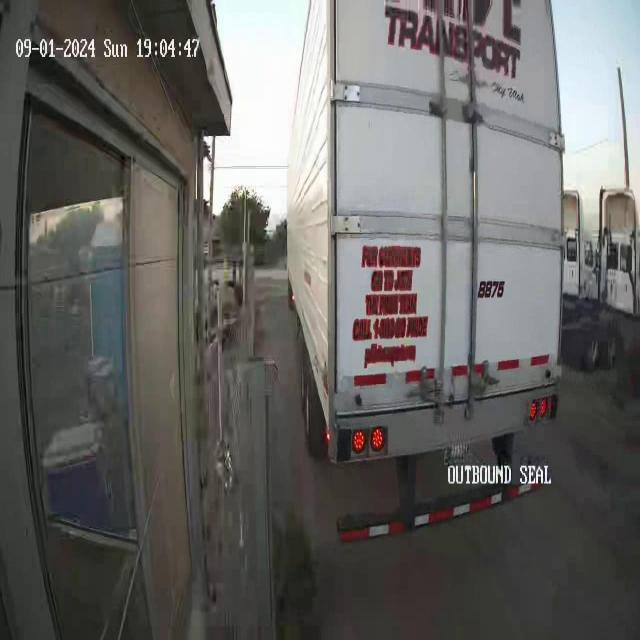TRUCK_OUT: (285, 1, 567, 468)
